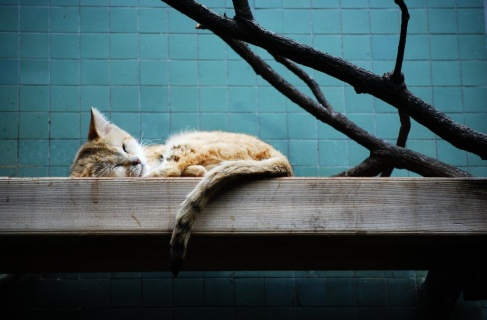Cat: (70, 107, 292, 276)
